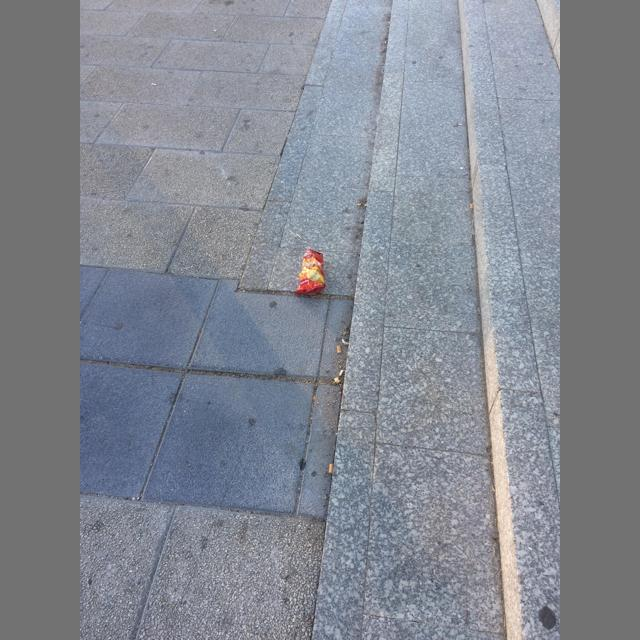litter: (294, 247, 326, 295), (336, 345, 341, 354), (338, 370, 344, 377), (329, 464, 333, 474), (470, 204, 473, 209), (380, 49, 384, 52), (213, 29, 216, 32), (384, 41, 386, 44), (456, 124, 462, 125)
